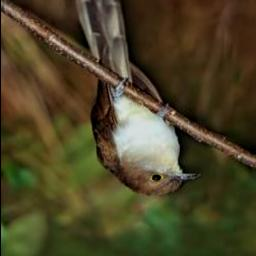Cuckoo: (73, 0, 198, 198)
